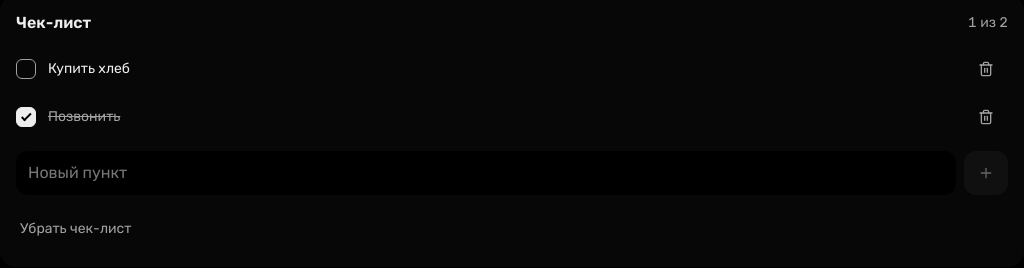
Test case: NoteChecklist › asks before emptying a checklist, and says how much is at stake
expect the text "Купить хлеб" is shown: met, box [48, 60, 130, 77]
Click the button "Убрать чек-лист" at (76, 229), box [16, 207, 135, 251]
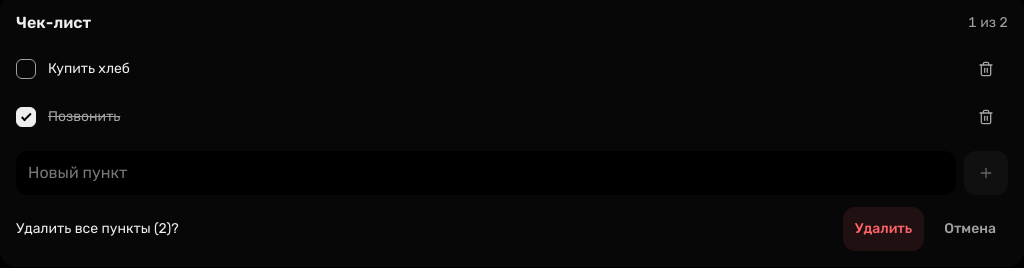
expect the text "Удалить все пункты (2)?" is shown: met, box [16, 220, 179, 237]
